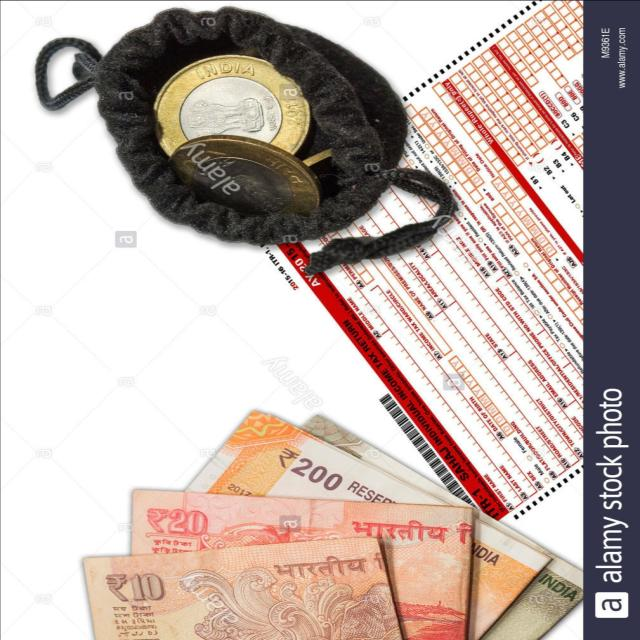10IndianRupees: (62, 541, 379, 639)
